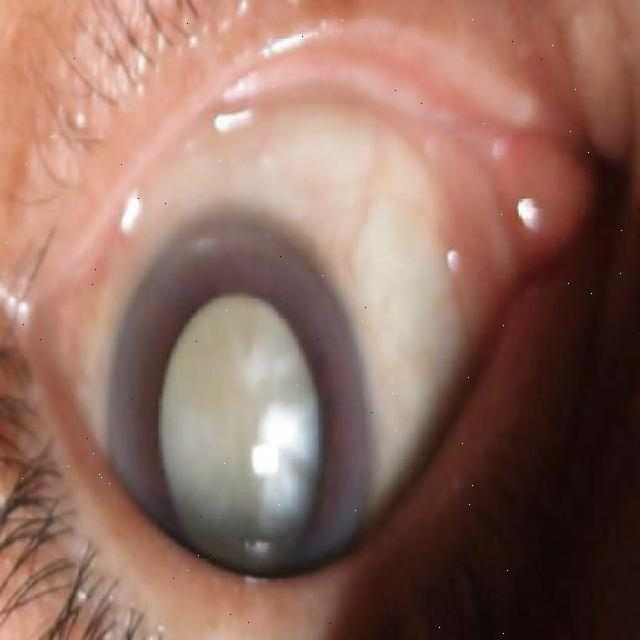Cataract: (105, 209, 376, 640)
